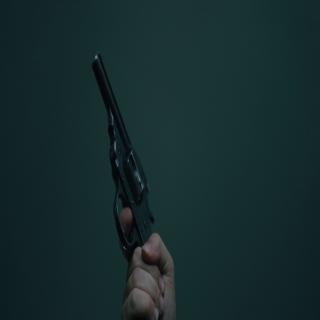gun: (88, 51, 167, 303)
